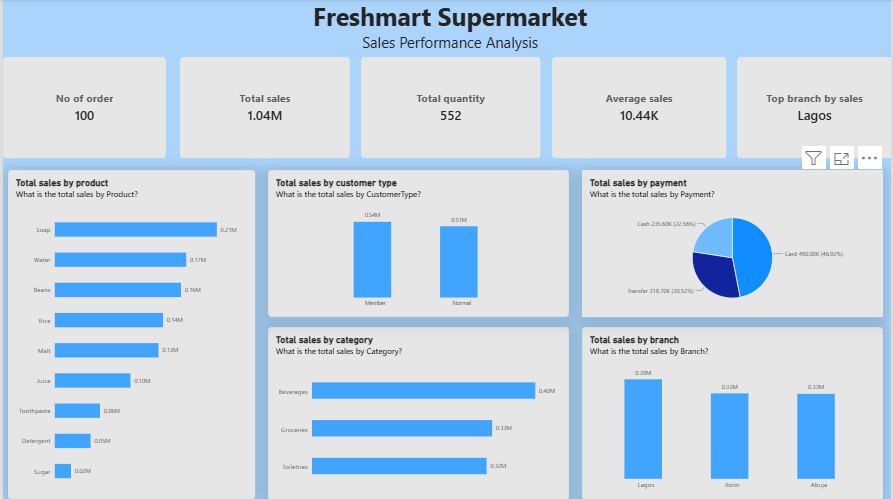

This screenshot's page, from the dashboard's own definition file:
{"tool":"powerbi","page":{"name":"Sales Performance","canvas":[1920,1080],"ordinal":0},"visuals":[{"type":"textbox","box":[10.1,0,1909.9,126],"z":0},{"type":"cardVisual","fields":{"Data":["SupermarketSales.No of order"]},"box":[0,126,352.8,219.2],"z":1000},{"type":"cardVisual","fields":{"Data":["SupermarketSales.Total sales"]},"box":[383,126,367.9,219.2],"z":2000},{"type":"cardVisual","fields":{"Data":["SupermarketSales.Total quantity"]},"box":[773.5,126,388,219.2],"z":3000},{"type":"cardVisual","fields":{"Data":["SupermarketSales.Average sales"]},"box":[1186.8,126,378,219.2],"z":4000},{"type":"cardVisual","fields":{"Data":["SupermarketSales.Top branch by sales"]},"box":[1584.9,126,335.1,219.2],"z":5000},{"type":"columnChart","title":"Total sales by branch","fields":{"Category":["SupermarketSales.Branch"],"Y":["SupermarketSales.Total sales"]},"box":[1249.8,708,650.1,372.9],"z":6000},{"type":"clusteredBarChart","title":"Total sales by category","fields":{"Y":["SupermarketSales.Total sales"],"Category":["SupermarketSales.Category"]},"box":[572,708,650.1,372.9],"z":7000},{"type":"pieChart","title":"Total sales by payment","fields":{"Y":["SupermarketSales.Total sales"],"Category":["SupermarketSales.Payment"]},"box":[1249.8,370.4,650.1,317.5],"z":8000},{"type":"clusteredColumnChart","title":"Total sales by customer type","fields":{"Y":["SupermarketSales.Total sales"],"Category":["SupermarketSales.CustomerType"]},"box":[572,370.4,650.1,317.5],"z":9000},{"type":"barChart","title":"Total sales by product","fields":{"Y":["SupermarketSales.Total sales"],"Category":["SupermarketSales.Product"]},"box":[10.1,370.4,534.2,710.6],"z":10000}]}

Visuals, with their boxes in screenshot pixels (x1, y1, x2, y2), scaled from the page's 1920x1080 canvas onto the 893x499 screenshot:
textbox: (5, 0, 892, 58)
cardVisual - SupermarketSales.No of order: (0, 58, 164, 159)
cardVisual - SupermarketSales.Total sales: (178, 58, 349, 159)
cardVisual - SupermarketSales.Total quantity: (360, 58, 540, 159)
cardVisual - SupermarketSales.Average sales: (552, 58, 728, 159)
cardVisual - SupermarketSales.Top branch by sales: (737, 58, 892, 159)
"Total sales by branch" columnChart: (581, 327, 884, 498)
"Total sales by category" clusteredBarChart: (266, 327, 568, 498)
"Total sales by payment" pieChart: (581, 171, 884, 318)
"Total sales by customer type" clusteredColumnChart: (266, 171, 568, 318)
"Total sales by product" barChart: (5, 171, 253, 498)
